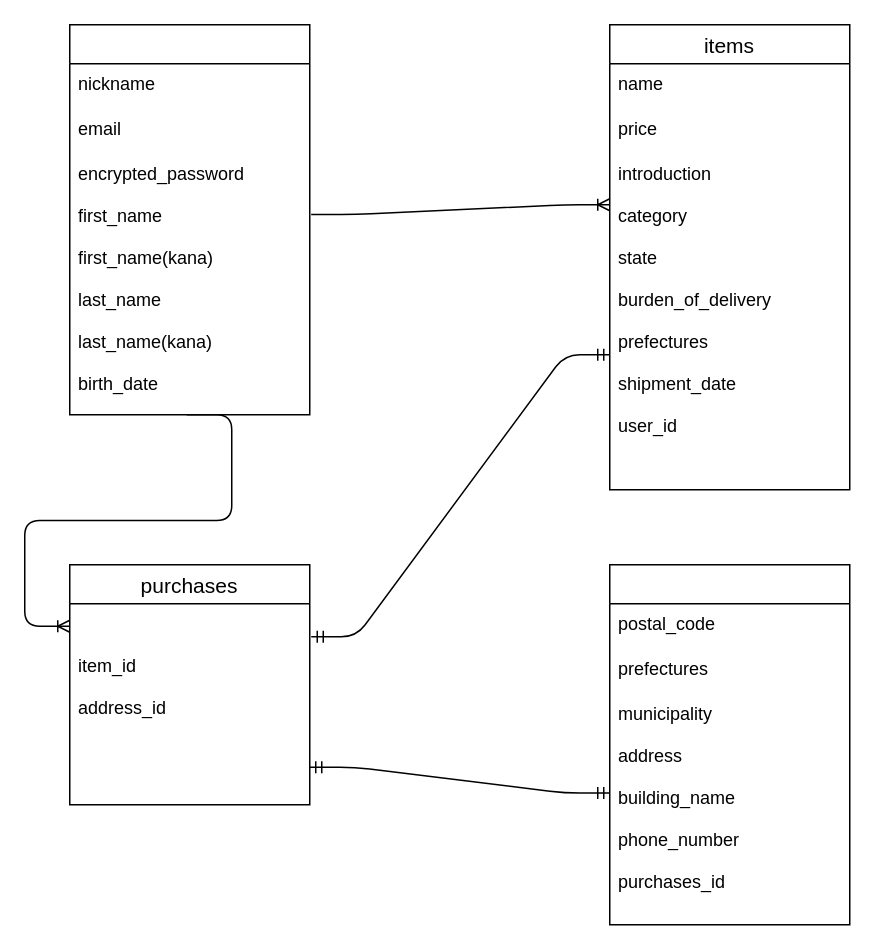
Some shapes in this 875 by 950 pixel diagram are drawn without their labels. The shapes that lost their labels are listed below. From the top down, each one's box as (x1, y1, x2, y2) in pixels, then its label:
(68, 23, 310, 415): users
(608, 563, 850, 925): addresses
